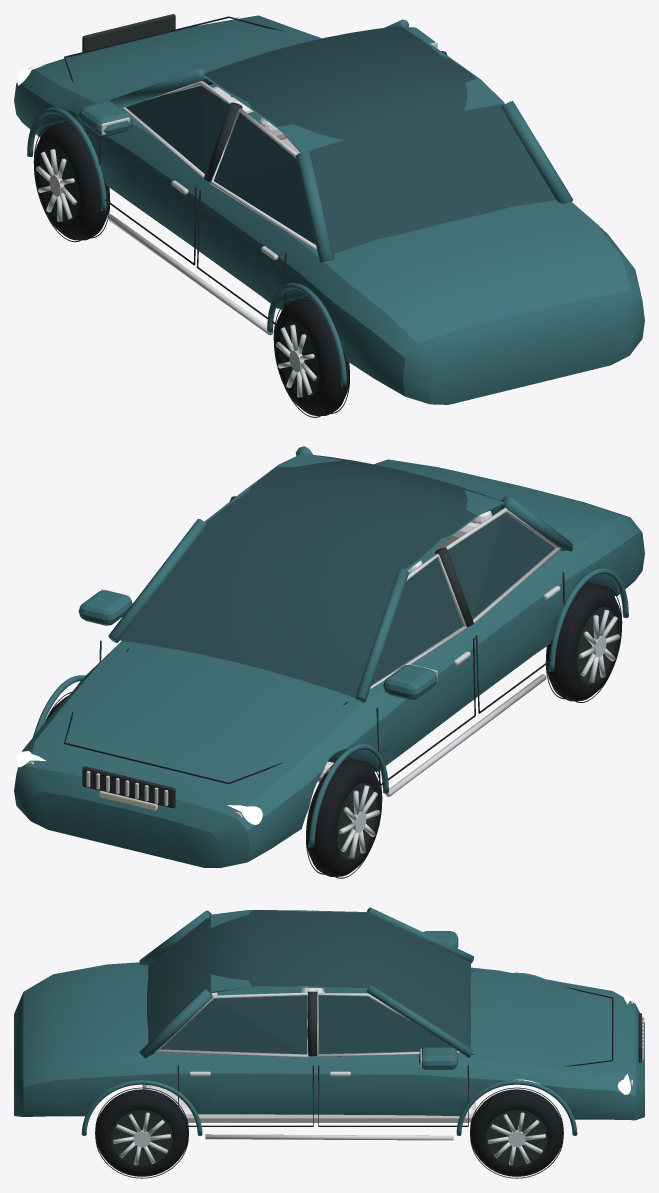
Rendered from sedan.glb.
The picture shows the model from 3 angles, top to bottom: view 1: azimuth 30°, elevation 25°; view 2: azimuth 150°, elevation 25°; view 3: azimuth 270°, elevation 25°; orthographic projection. The views are drawn at different scales.
Parts seen in each view (by area): view 1: sedan_body, wheel_rear_left, wheel_front_left; view 2: sedan_body, wheel_front_left, wheel_rear_left; view 3: sedan_body, wheel_front_right, wheel_rear_right.
Part boxes in pixels (left/top/right/bottom): sedan_body: left=14, top=14, right=644, bottom=404; wheel_rear_left: left=273, top=297, right=349, bottom=417; wheel_front_left: left=33, top=121, right=110, bottom=242; sedan_body: left=14, top=446, right=644, bottom=867; wheel_front_left: left=306, top=757, right=382, bottom=878; wheel_rear_left: left=545, top=582, right=622, bottom=702; sedan_body: left=14, top=907, right=644, bottom=1140; wheel_front_right: left=470, top=1087, right=563, bottom=1178; wheel_rear_right: left=95, top=1087, right=188, bottom=1178.
Size of the model in its own units: 2.28 by 1.48 by 4.68.
9 materials, 1 textured.
